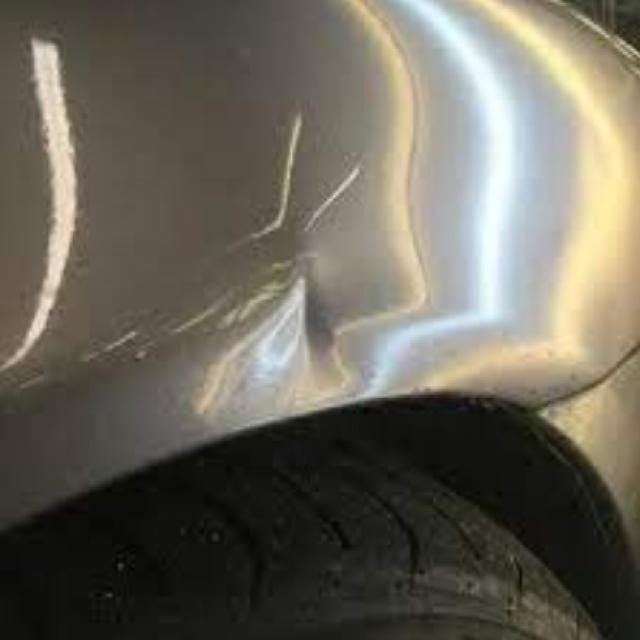dents: (208, 235, 358, 404)
